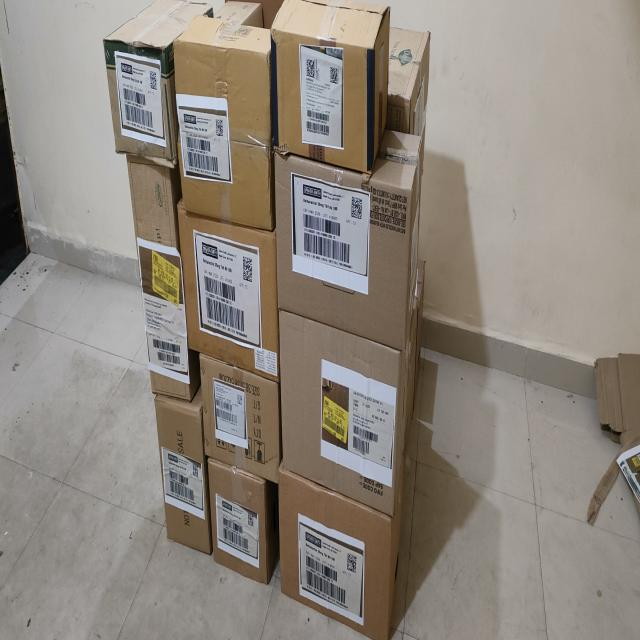BoxFace: (271, 149, 423, 346), (278, 305, 402, 516), (173, 10, 273, 229), (270, 1, 391, 173), (118, 150, 199, 401), (277, 468, 392, 636), (176, 196, 279, 380), (198, 349, 280, 482), (152, 388, 212, 555), (206, 454, 278, 585), (102, 38, 170, 164)
